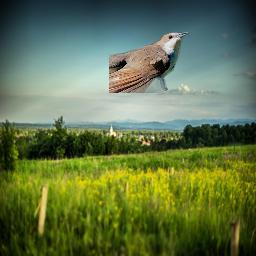Cuckoo: (109, 32, 189, 93)
